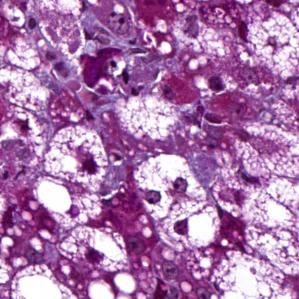ballooning: (131, 152, 222, 255), (42, 122, 109, 194), (57, 222, 133, 276)
